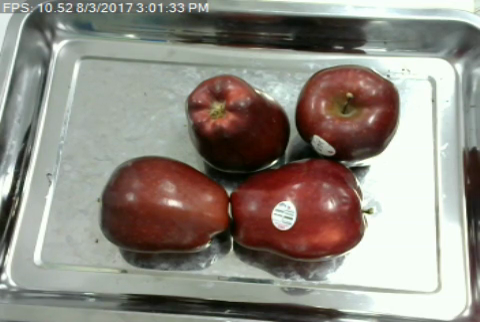Apple: (225, 153, 370, 266), (94, 153, 232, 259), (182, 71, 293, 176), (294, 63, 403, 163)
